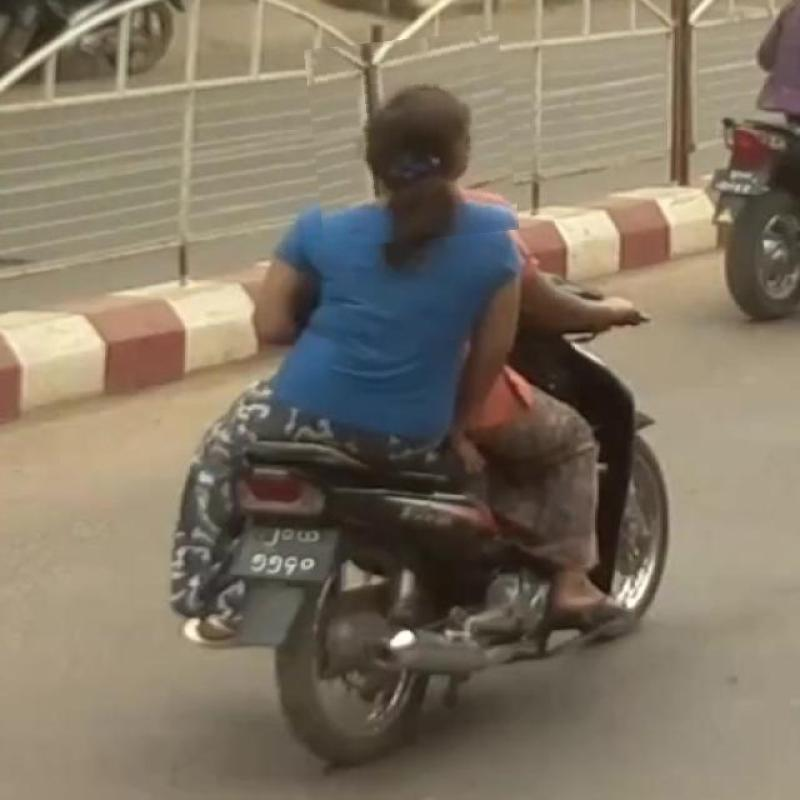nohelmet: (309, 34, 515, 245)
